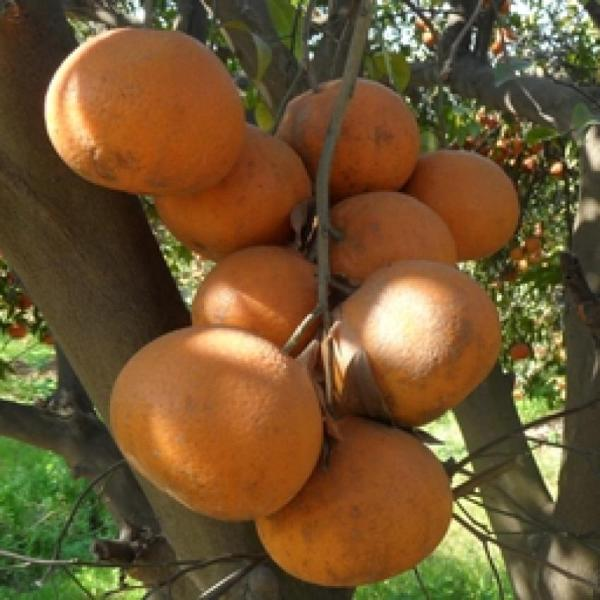Canker: (42, 25, 247, 195), (255, 422, 456, 595), (326, 262, 508, 436), (154, 130, 317, 241), (278, 82, 421, 200), (314, 184, 465, 282)
Sana: (105, 331, 318, 524), (184, 246, 328, 356)
